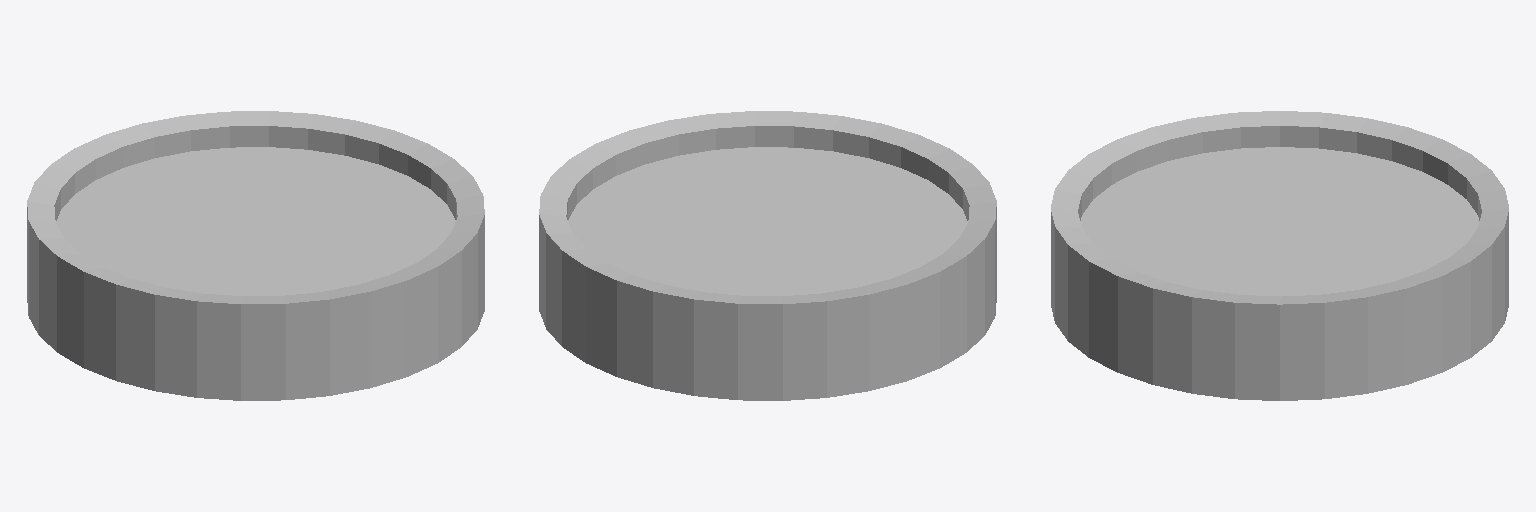
The model's file is COIN.obj.
The picture shows the model from 3 angles: view 1: azimuth 30°, elevation 25°; view 2: azimuth 150°, elevation 25°; view 3: azimuth 270°, elevation 25°; orthographic projection.
Visible parts, largest first — view 1: Cylinder; view 2: Cylinder; view 3: Cylinder.
Part boxes in pixels (x1,y1,x2,y2): Cylinder: (27,111,484,400); Cylinder: (539,111,996,400); Cylinder: (1051,111,1508,400).
Size of the model in its own units: 2.27 by 0.5275 by 2.27.